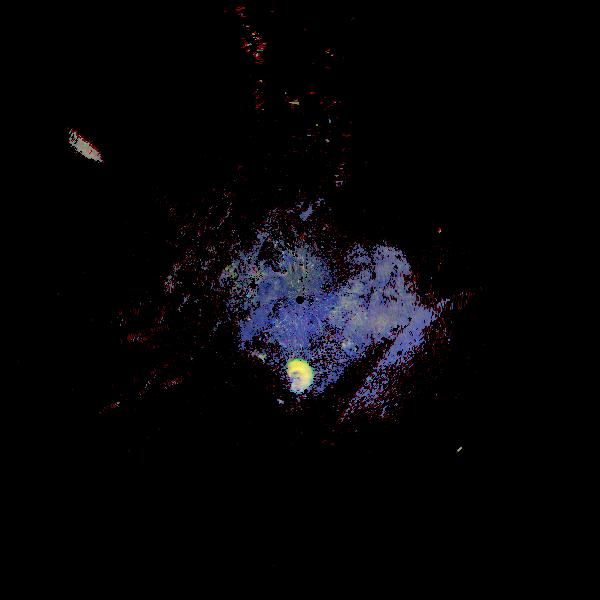roost: (276, 353, 321, 398)
